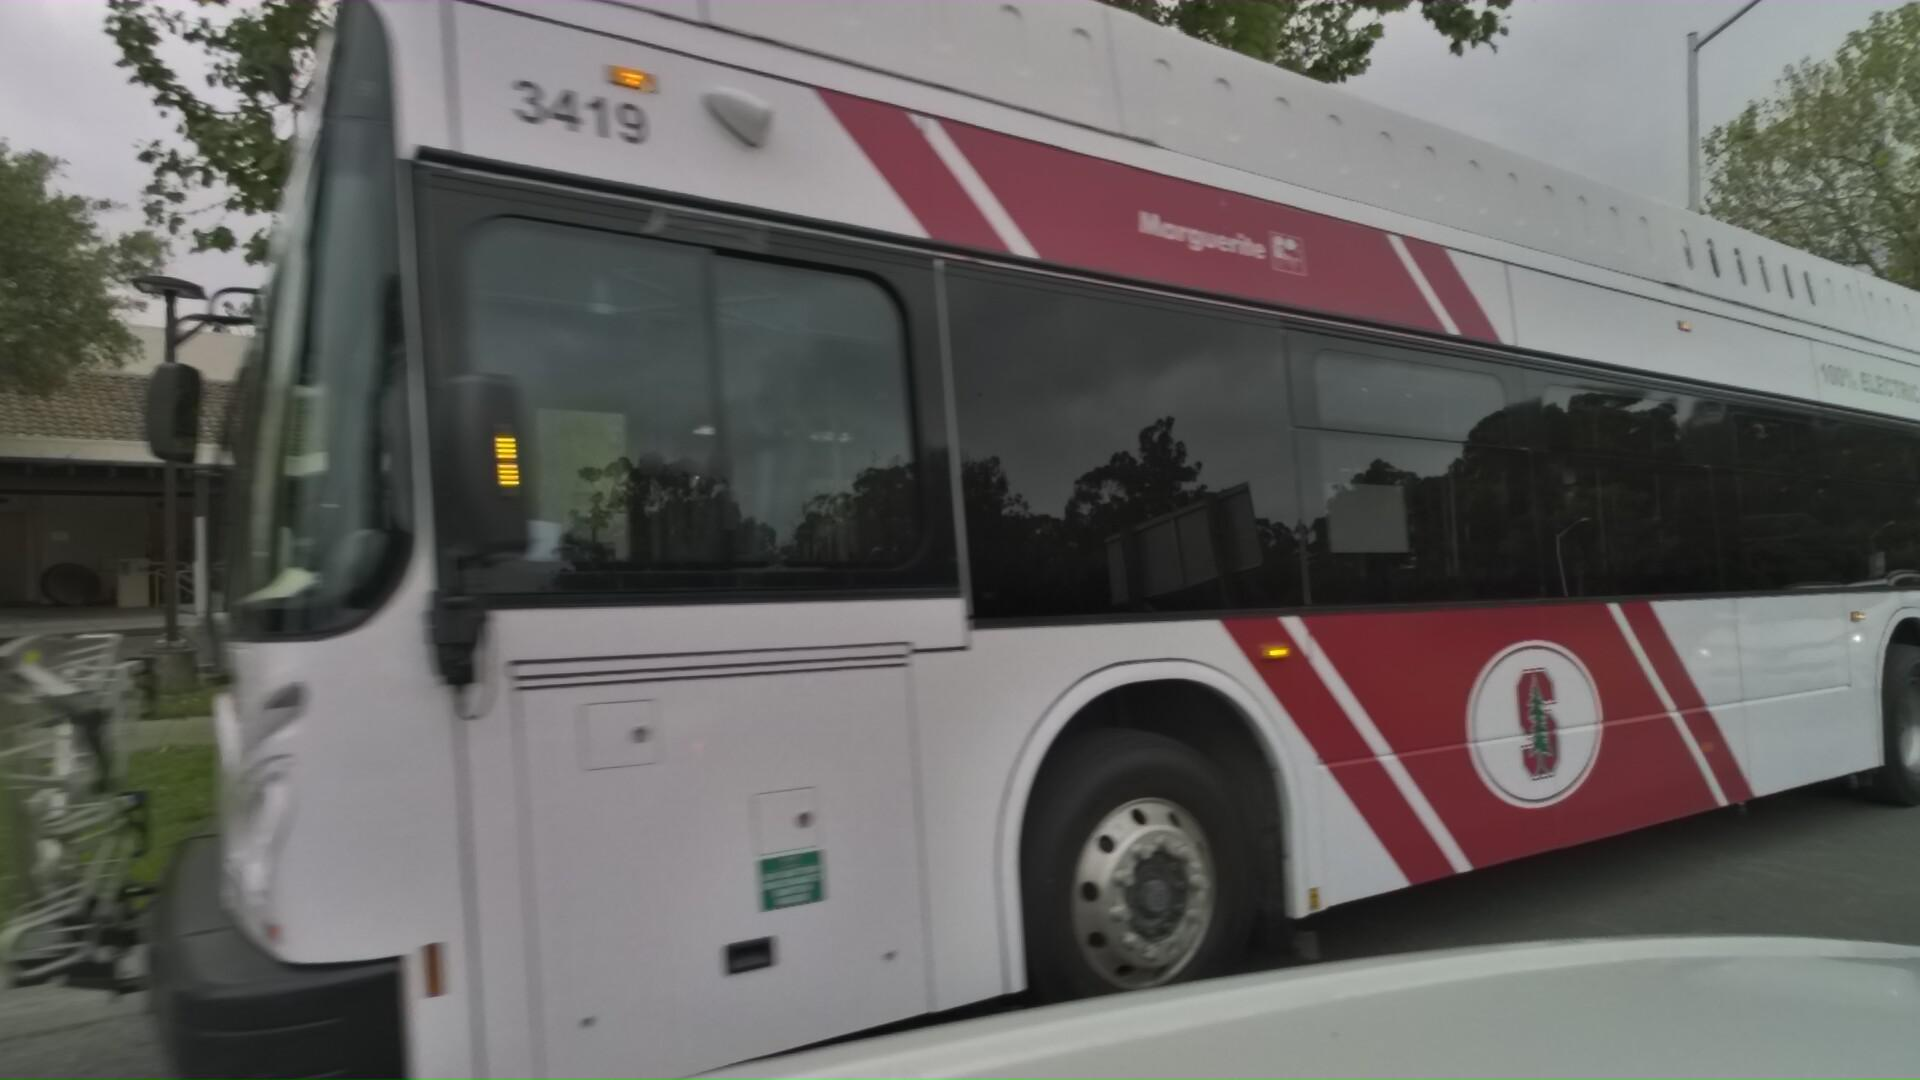bus: (0, 0, 1920, 1080), (1898, 363, 1920, 732)
